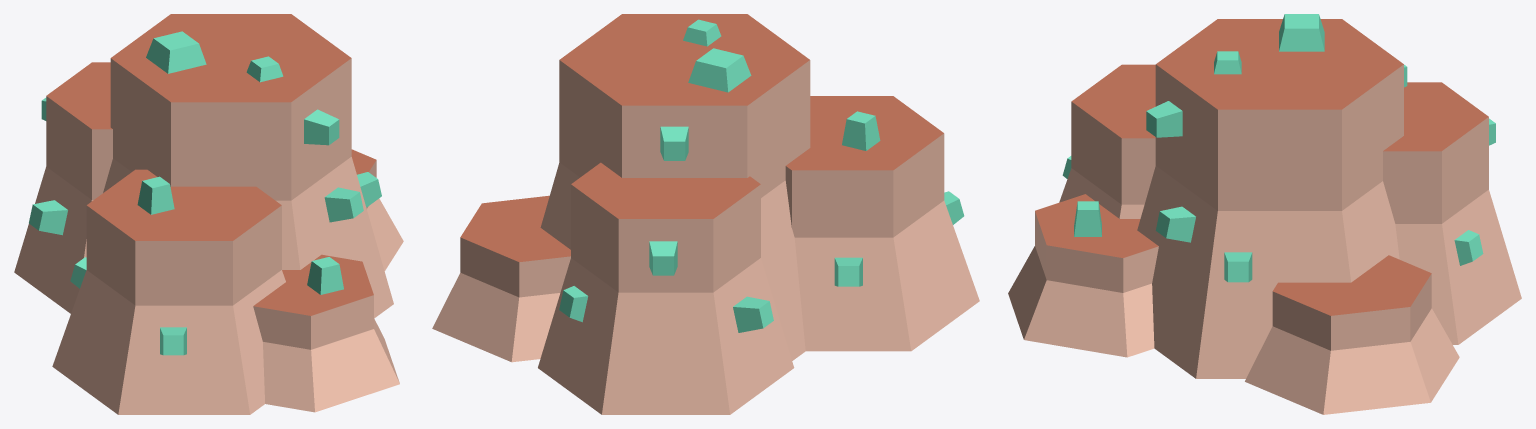
The model's file is rock_crystalsLargeA.glb.
The picture shows the model from 3 angles, left to right: view 1: azimuth 30°, elevation 25°; view 2: azimuth 150°, elevation 25°; view 3: azimuth 270°, elevation 25°; orthographic projection. The views are drawn at different scales.
Visible parts, largest first — view 1: rock_crystalsLargeA; view 2: rock_crystalsLargeA; view 3: rock_crystalsLargeA.
Boxes of the visible parts, box(x1,y1,x2,y2) form: rock_crystalsLargeA: box(14, 14, 403, 414); rock_crystalsLargeA: box(432, 14, 979, 414); rock_crystalsLargeA: box(1008, 14, 1521, 414).
Bounding box in the file's own units: 1.17 × 0.7596 × 1.29.
